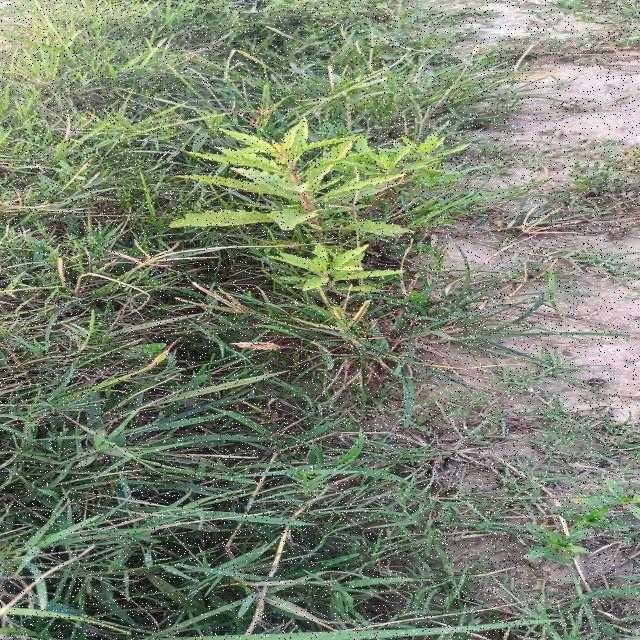plant: (172, 120, 455, 244), (281, 246, 393, 292)
